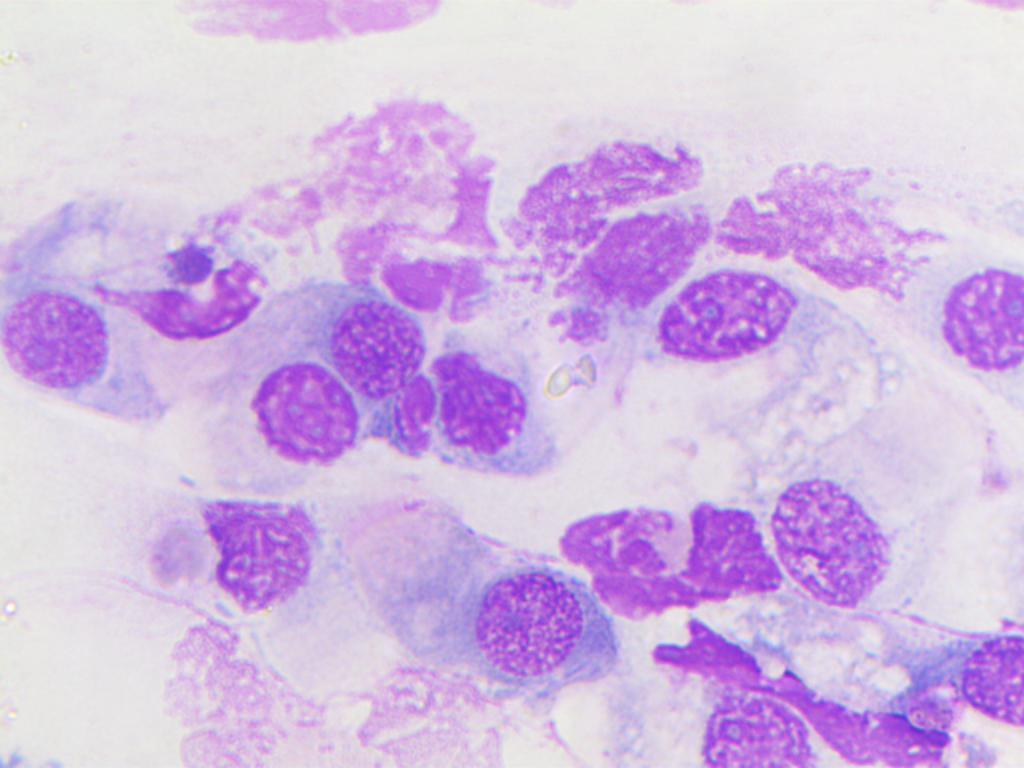ciliated: (339, 494, 622, 698)
epithelial: (195, 482, 322, 628), (681, 665, 827, 768), (4, 288, 114, 398), (955, 612, 1024, 741)
erythrocyte: (540, 350, 611, 399)
metaplastic: (770, 470, 902, 612), (647, 258, 811, 367), (918, 250, 1024, 381), (243, 359, 355, 472), (333, 292, 427, 390)
